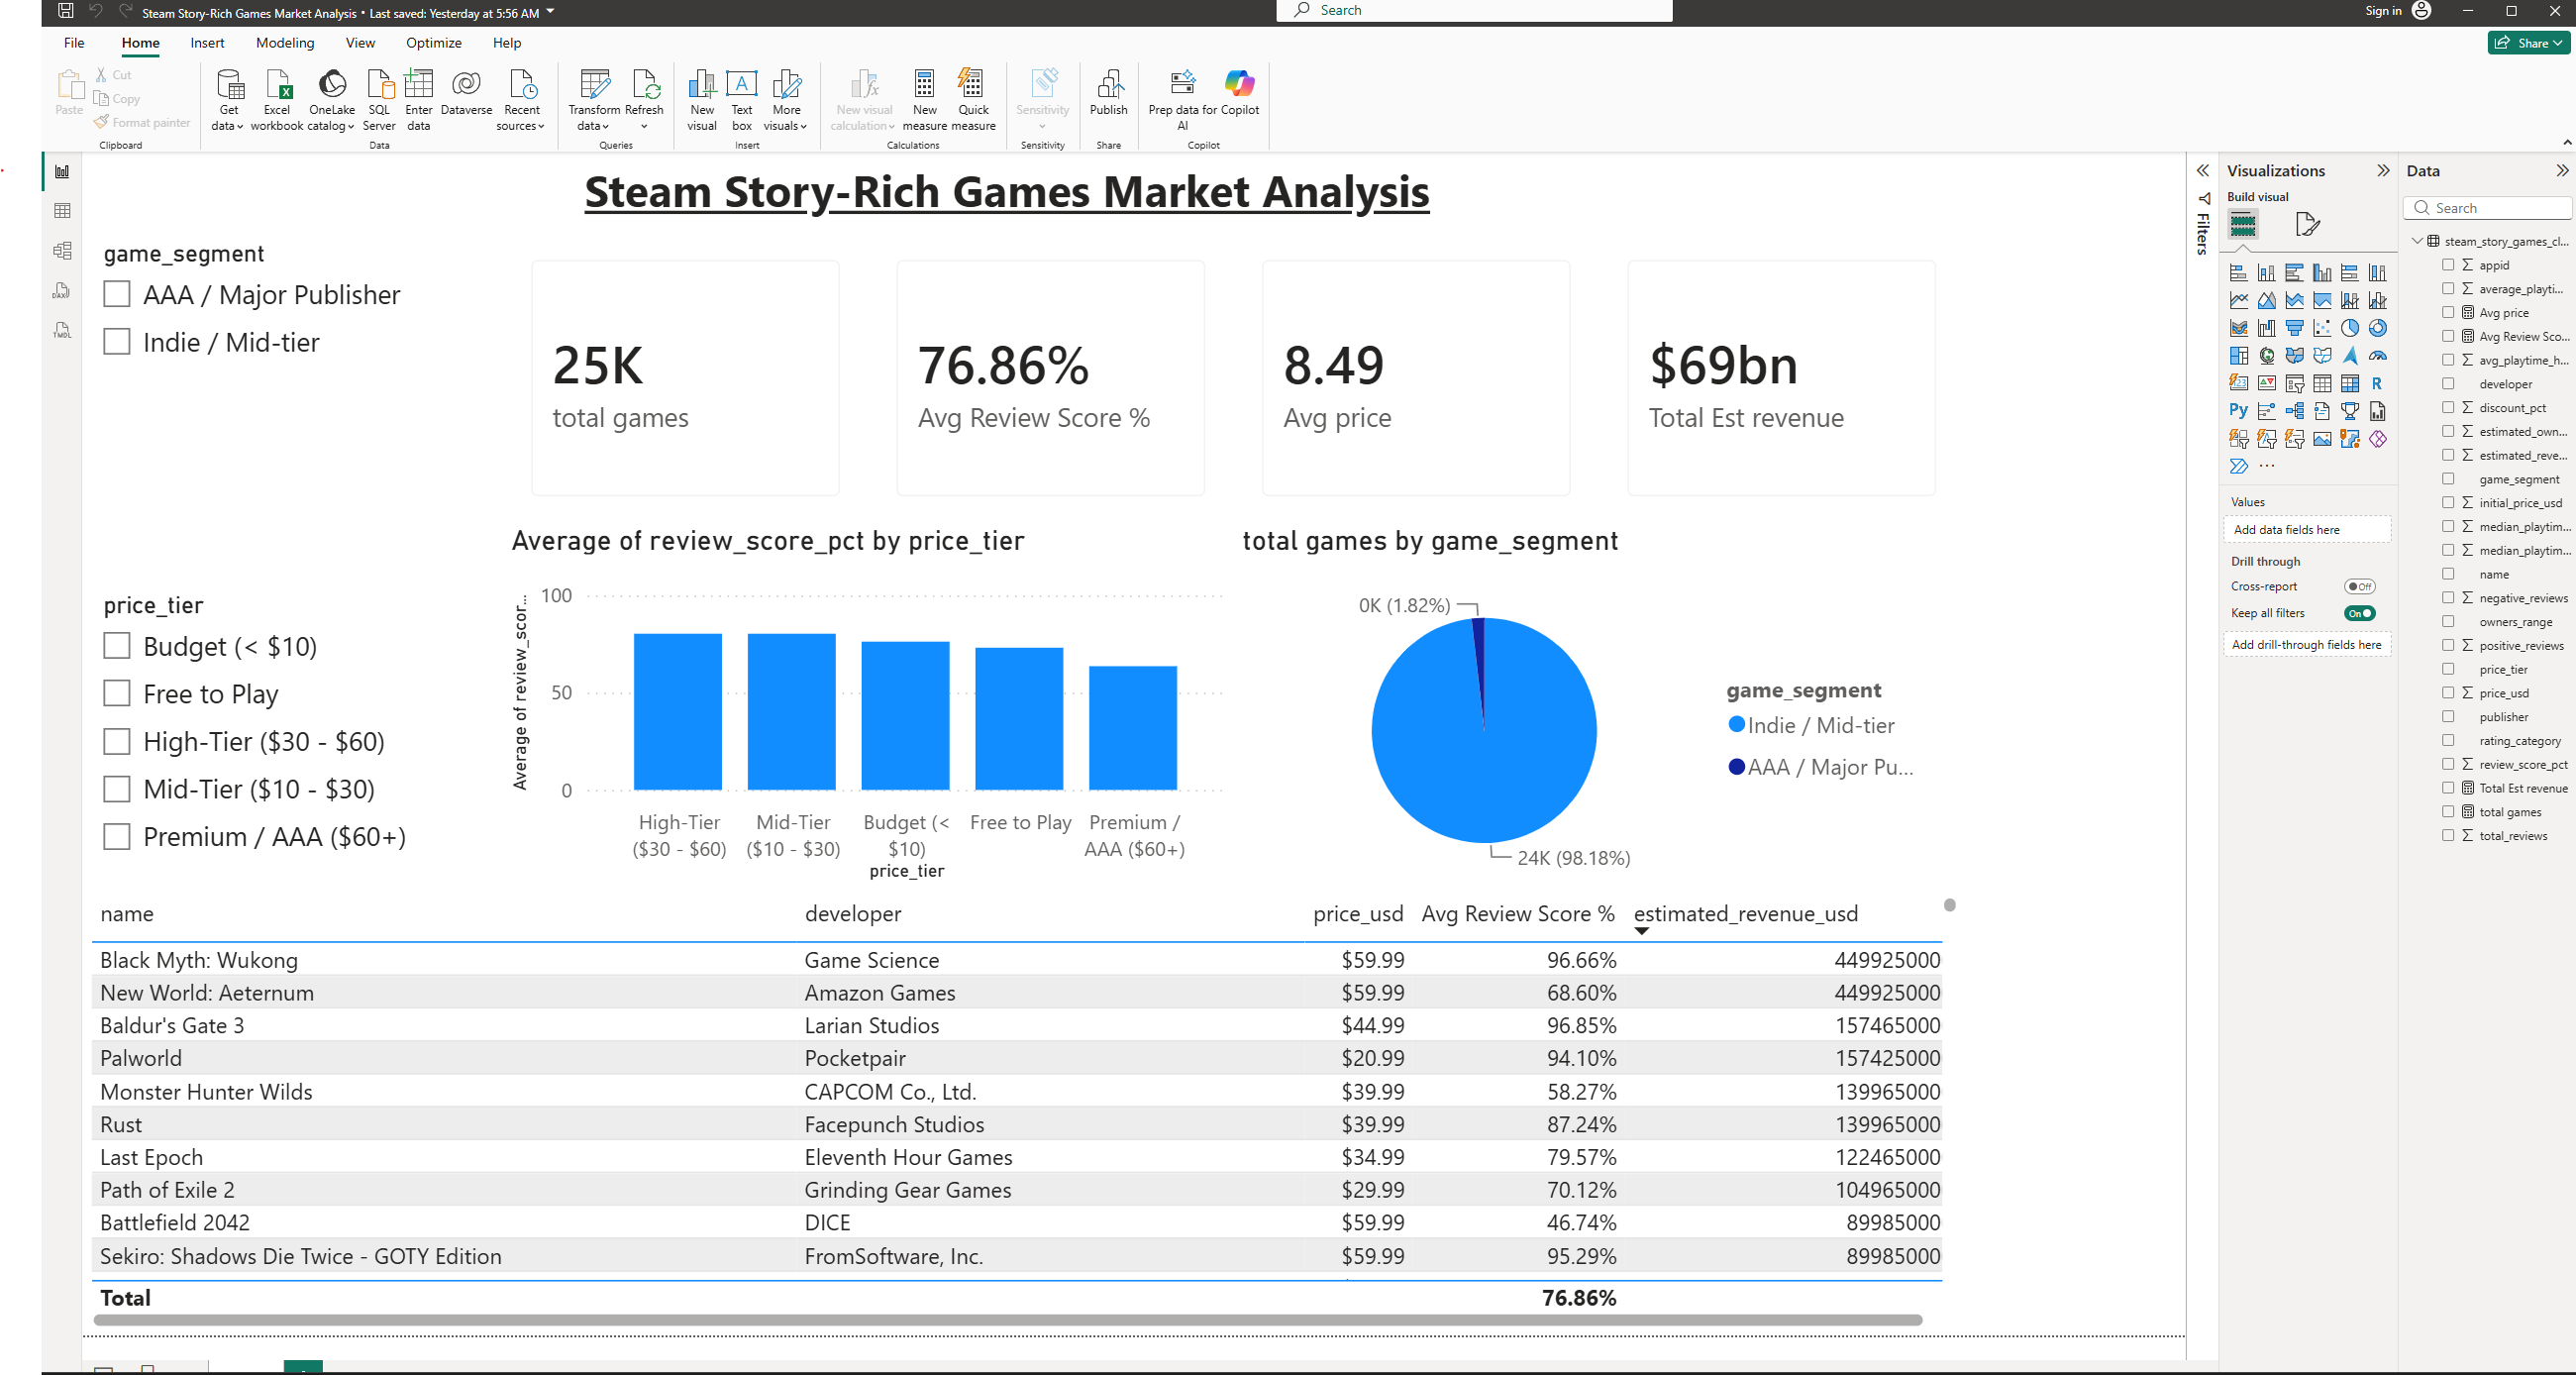

What the dashboard file says about the page in this screenshot:
{"tool":"powerbi","page":{"name":"Page 1","canvas":[1280,720],"ordinal":0},"visuals":[{"type":"slicer","fields":{"Values":["steam_story_games_cleaned.game_segment"]},"box":[0,48.7,256.4,201.3],"z":0},{"type":"slicer","fields":{"Values":["steam_story_games_cleaned.price_tier"]},"box":[0,262.8,256.4,223.1],"z":1},{"type":"cardVisual","fields":{"Data":["steam_story_games_cleaned.total games"]},"box":[256,48.6,222,178],"z":2},{"type":"cardVisual","fields":{"Data":["steam_story_games_cleaned.Avg Review Score %"]},"box":[478.4,48.6,222,178],"z":3},{"type":"cardVisual","fields":{"Data":["steam_story_games_cleaned.Avg price"]},"box":[700.7,48.6,222,178],"z":4},{"type":"cardVisual","fields":{"Data":["steam_story_games_cleaned.Total Est revenue"]},"box":[923.1,48.6,222,178],"z":5},{"type":"clusteredColumnChart","fields":{"Category":["steam_story_games_cleaned.price_tier"],"Y":["Avg(steam_story_games_cleaned.review_score_pct)"]},"box":[256.2,225.7,444.7,222.4],"z":6},{"type":"pieChart","fields":{"Category":["steam_story_games_cleaned.game_segment"],"Y":["steam_story_games_cleaned.total games"]},"box":[700.7,226.1,431.6,222.4],"z":7},{"type":"tableEx","fields":{"Values":["steam_story_games_cleaned.name","steam_story_games_cleaned.developer","steam_story_games_cleaned.price_usd","steam_story_games_cleaned.Avg Review Score %","steam_story_games_cleaned.estimated_revenue_usd"]},"box":[0,448.1,1145.7,272],"z":8},{"type":"textbox","box":[0,0,1133.3,48.7],"z":9}]}

Visuals, with their boxes on the page's 1280x720 design canvas (x1, y1, x2, y2). These are canvas units, not pixel positions in the 2576x1375 screenshot, which may show the page scaled, cropped or inside an application window:
slicer - steam_story_games_cleaned.game_segment: bbox=[0, 49, 256, 250]
slicer - steam_story_games_cleaned.price_tier: bbox=[0, 263, 256, 486]
cardVisual - steam_story_games_cleaned.total games: bbox=[256, 49, 478, 227]
cardVisual - steam_story_games_cleaned.Avg Review Score %: bbox=[478, 49, 700, 227]
cardVisual - steam_story_games_cleaned.Avg price: bbox=[701, 49, 923, 227]
cardVisual - steam_story_games_cleaned.Total Est revenue: bbox=[923, 49, 1145, 227]
clusteredColumnChart - steam_story_games_cleaned.price_tier x Avg(steam_story_games_cleaned.review_score_pct): bbox=[256, 226, 701, 448]
pieChart - steam_story_games_cleaned.game_segment x steam_story_games_cleaned.total games: bbox=[701, 226, 1132, 448]
tableEx - steam_story_games_cleaned.name x steam_story_games_cleaned.developer: bbox=[0, 448, 1146, 720]
textbox: bbox=[0, 0, 1133, 49]
